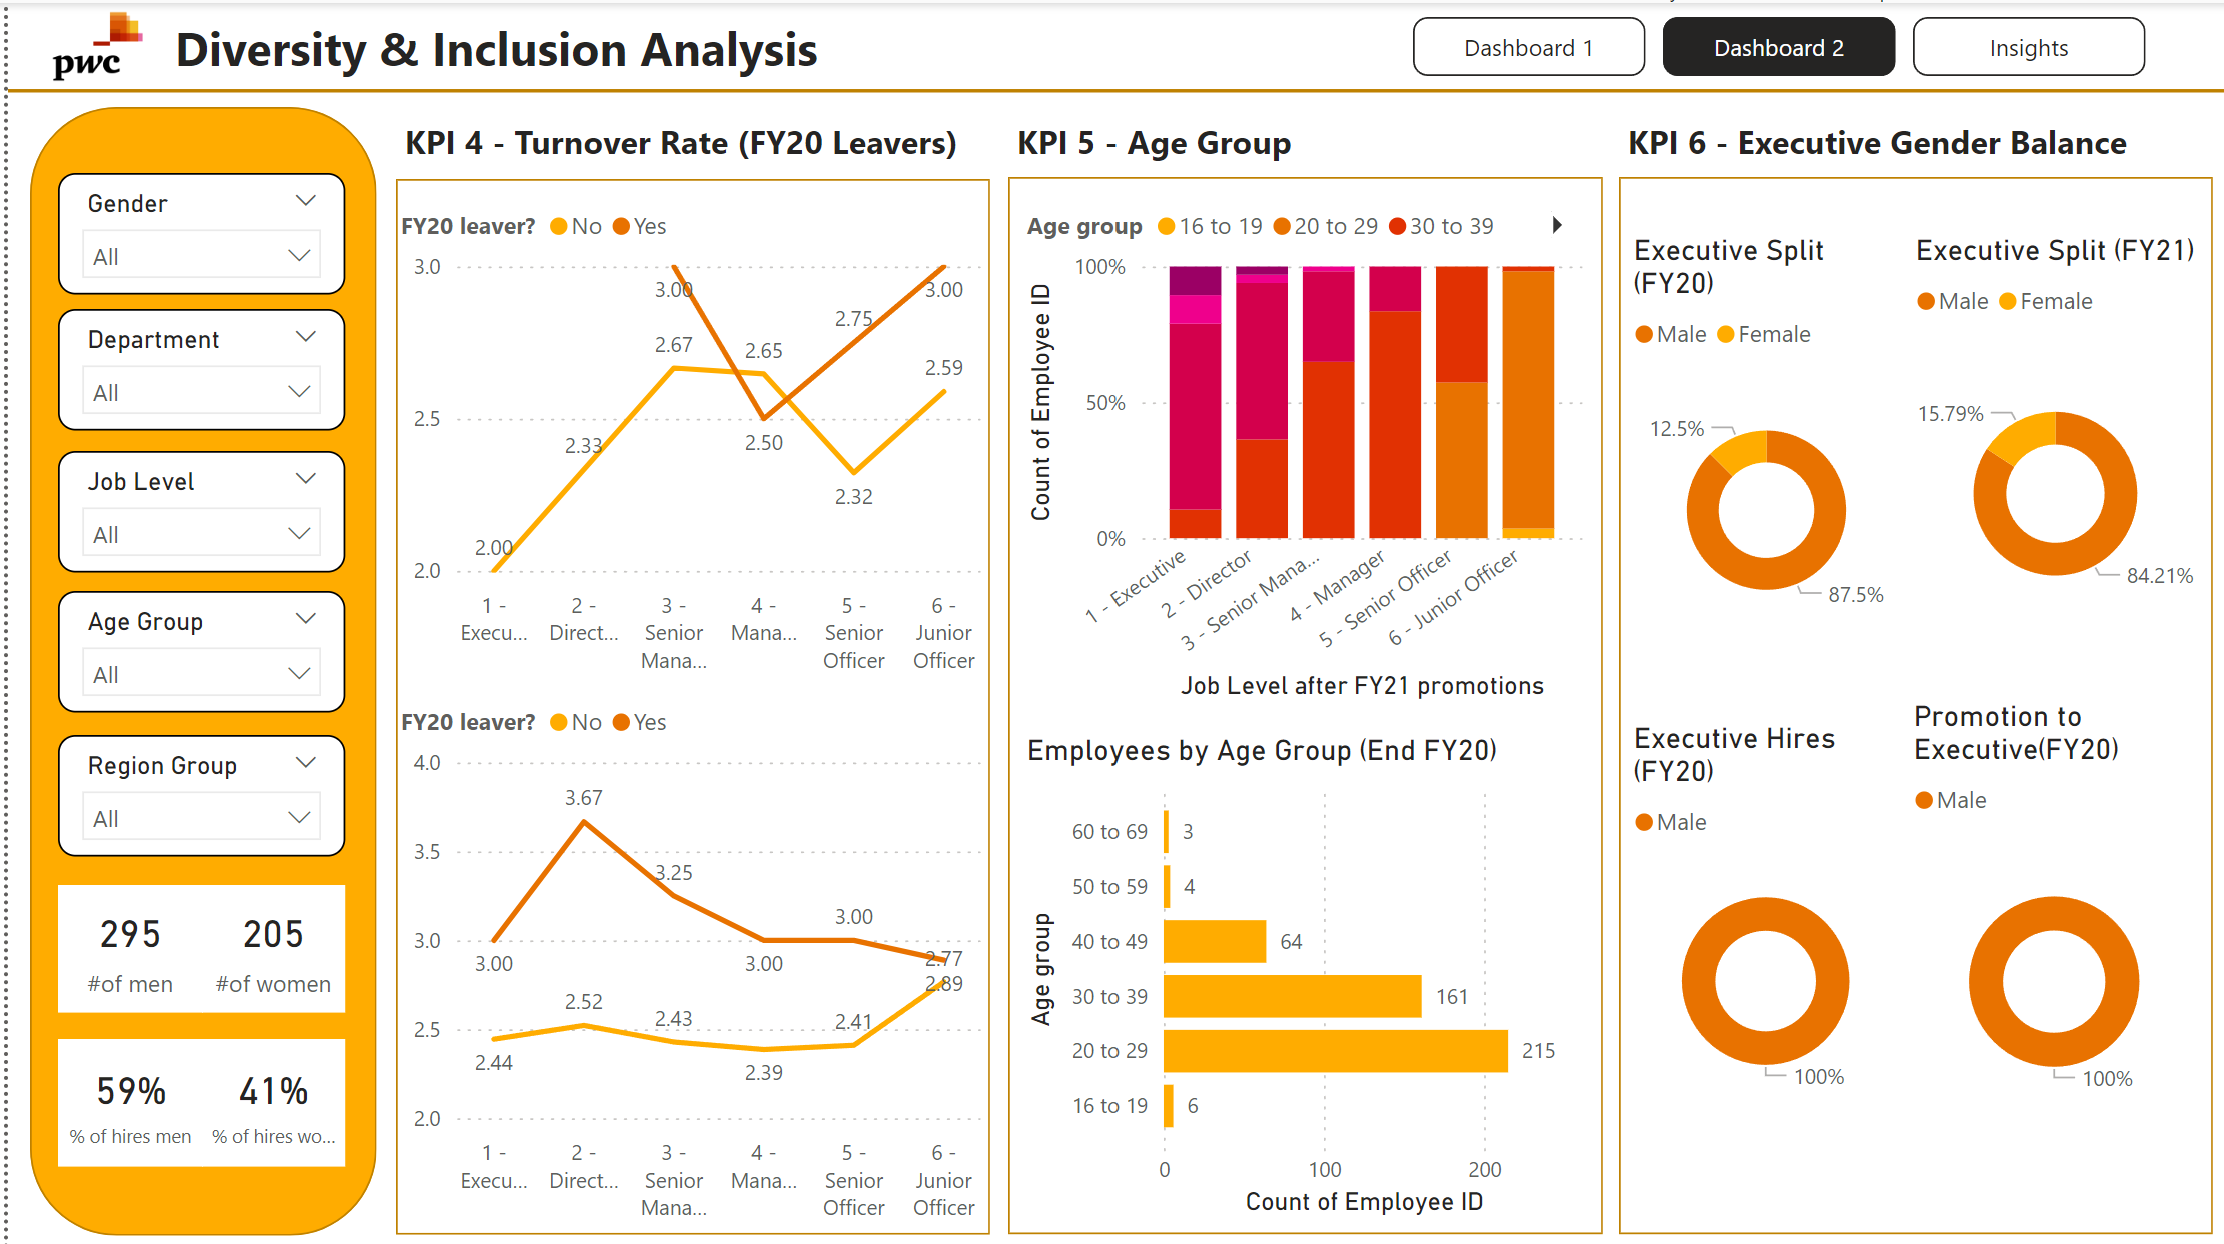

The dashboard page shown, as its layout file describes it:
{"tool":"powerbi","page":{"name":"Dashboard 2","canvas":[1280,720],"ordinal":1},"visuals":[{"type":"textbox","box":[90.4,1.8,402.1,45.7],"z":0},{"type":"shape","box":[12.5,59.1,199.7,650.1],"z":0,"group":"g1"},{"type":"image","box":[12.5,0,77.9,50.1],"z":1000},{"type":"pageNavigator","box":[808.7,8.1,423.6,34],"z":2000},{"type":"shape","box":[0,37.6,1279.7,25.1],"z":2000,"group":"g1"},{"type":"lineChart","fields":{"Category":["Pharma Group AG.Job Level after FY20 promotions"],"Y":["Avg(Pharma Group AG.FY19 Performance Rating)"],"Series":["Pharma Group AG.FY20 leaver?"]},"box":[221.2,108.4,346.6,285.7],"z":3000},{"type":"slicer","title":"Gender","fields":{"Values":["Pharma Group AG.Gender"]},"box":[28.7,97.6,165.7,69.9],"z":4000,"group":"g1"},{"type":"lineChart","fields":{"Category":["Pharma Group AG.Job Level after FY20 promotions"],"Y":["Avg(Pharma Group AG.FY19 Performance Rating)"],"Series":["Pharma Group AG.FY20 leaver?"]},"box":[221.2,394,346.6,315.2],"z":4000},{"type":"group","id":"g1","title":"Group 1","box":[0,37.6,1279.7,671.6],"z":5000},{"type":"slicer","fields":{"Values":["Pharma Group AG.Last Department in FY20"]},"box":[28.7,176.4,165.7,69.9],"z":5000,"group":"g1"},{"type":"textbox","box":[223.9,61.8,343.9,38.5],"z":6000},{"type":"slicer","fields":{"Values":["Pharma Group AG.Job Level after FY20 promotions"]},"box":[28.7,257.9,165.7,69.9],"z":6000,"group":"g1"},{"type":"textbox","box":[575.8,61.8,279.4,38.5],"z":7000},{"type":"slicer","fields":{"Values":["Pharma Group AG.Age group"]},"box":[28.7,338.5,165.7,69.9],"z":7000,"group":"g1"},{"type":"textbox","box":[926.9,62.7,330.4,38.5],"z":8000},{"type":"slicer","fields":{"Values":["Pharma Group AG.Broad region group: nationality 1"]},"box":[28.7,420.9,165.7,69.9],"z":8000,"group":"g1"},{"type":"shape","box":[223.9,101.2,342.1,608.1],"z":9000},{"type":"shape","box":[575.8,100.3,342.1,609],"z":10000},{"type":"card","fields":{"Values":["Pharma Group AG.#of men"]},"box":[28.7,507.7,83.3,73.4],"z":10000,"group":"g1"},{"type":"shape","box":[926.9,100.3,342.1,609],"z":11000},{"type":"card","fields":{"Values":["Pharma Group AG.#of women"]},"box":[111.9,507.7,82.4,73.4],"z":11000,"group":"g1"},{"type":"donutChart","title":"Executive Split (FY20)","fields":{"Category":["Pharma Group AG.Gender"],"Y":["CountNonNull(Pharma Group AG.Employee ID)"]},"box":[930.4,132.5,163,251.6],"z":12000},{"type":"card","fields":{"Values":["Pharma Group AG.% of hires men"]},"box":[28.7,596.4,83.3,73.4],"z":12000,"group":"g1"},{"type":"donutChart","title":"Executive Split (FY21)","fields":{"Category":["Pharma Group AG.Gender"],"Y":["CountNonNull(Pharma Group AG.Employee ID)"]},"box":[1093.4,132.5,171,251.6],"z":13000},{"type":"card","fields":{"Values":["Pharma Group AG.% of hires women"]},"box":[111.9,596.4,82.4,73.4],"z":13000,"group":"g1"},{"type":"donutChart","title":"Executive Hires (FY20)","fields":{"Category":["Pharma Group AG.Gender"],"Y":["CountNonNull(Pharma Group AG.Employee ID)"]},"box":[931.3,413.7,162.1,231.9],"z":14000},{"type":"donutChart","title":"Promotion to Executive(FY20)","fields":{"Category":["Pharma Group AG.Gender"],"Y":["CountNonNull(Pharma Group AG.Employee ID)"]},"box":[1092.5,401.2,171.9,257.9],"z":15000},{"type":"clusteredBarChart","title":"Employees by Age Group (End FY20)","fields":{"Category":["Pharma Group AG.Age group"],"Y":["CountNonNull(Pharma Group AG.Employee ID)"]},"box":[582.1,420,329.6,283],"z":16000},{"type":"hundredPercentStackedColumnChart","fields":{"Series":["Pharma Group AG.Age group"],"Category":["Pharma Group AG.Job Level after FY21 promotions"],"Y":["CountNonNull(Pharma Group AG.Employee ID)"]},"box":[582.1,108.4,329.6,297.3],"z":17000}]}

Visuals, with their boxes in screenshot pixels (x1, y1, x2, y2), scaled from the page's 1280x720 canvas onto the 2224x1244 screenshot:
textbox: l=157, t=3, r=856, b=82
shape: l=22, t=102, r=369, b=1225
image: l=22, t=0, r=157, b=87
pageNavigator: l=1405, t=14, r=2141, b=73
shape: l=0, t=65, r=2223, b=108
lineChart - Pharma Group AG.Job Level after FY20 promotions x Avg(Pharma Group AG.FY19 Performance Rating): l=384, t=187, r=987, b=681
"Gender" slicer: l=50, t=169, r=338, b=289
lineChart - Pharma Group AG.Job Level after FY20 promotions x Avg(Pharma Group AG.FY19 Performance Rating): l=384, t=681, r=987, b=1225
"Group 1" group: l=0, t=65, r=2223, b=1225
slicer - Pharma Group AG.Last Department in FY20: l=50, t=305, r=338, b=426
textbox: l=389, t=107, r=987, b=173
slicer - Pharma Group AG.Job Level after FY20 promotions: l=50, t=446, r=338, b=566
textbox: l=1000, t=107, r=1486, b=173
slicer - Pharma Group AG.Age group: l=50, t=585, r=338, b=706
textbox: l=1610, t=108, r=2185, b=175
slicer - Pharma Group AG.Broad region group: nationality 1: l=50, t=727, r=338, b=848
shape: l=389, t=175, r=983, b=1226
shape: l=1000, t=173, r=1595, b=1226
card - Pharma Group AG.#of men: l=50, t=877, r=195, b=1004
shape: l=1610, t=173, r=2205, b=1226
card - Pharma Group AG.#of women: l=194, t=877, r=338, b=1004
"Executive Split (FY20)" donutChart: l=1617, t=229, r=1900, b=664
card - Pharma Group AG.% of hires men: l=50, t=1030, r=195, b=1157
"Executive Split (FY21)" donutChart: l=1900, t=229, r=2197, b=664
card - Pharma Group AG.% of hires women: l=194, t=1030, r=338, b=1157
"Executive Hires (FY20)" donutChart: l=1618, t=715, r=1900, b=1115
"Promotion to Executive(FY20)" donutChart: l=1898, t=693, r=2197, b=1139
"Employees by Age Group (End FY20)" clusteredBarChart: l=1011, t=726, r=1584, b=1215
hundredPercentStackedColumnChart - Pharma Group AG.Age group x Pharma Group AG.Job Level after FY21 promotions: l=1011, t=187, r=1584, b=701
